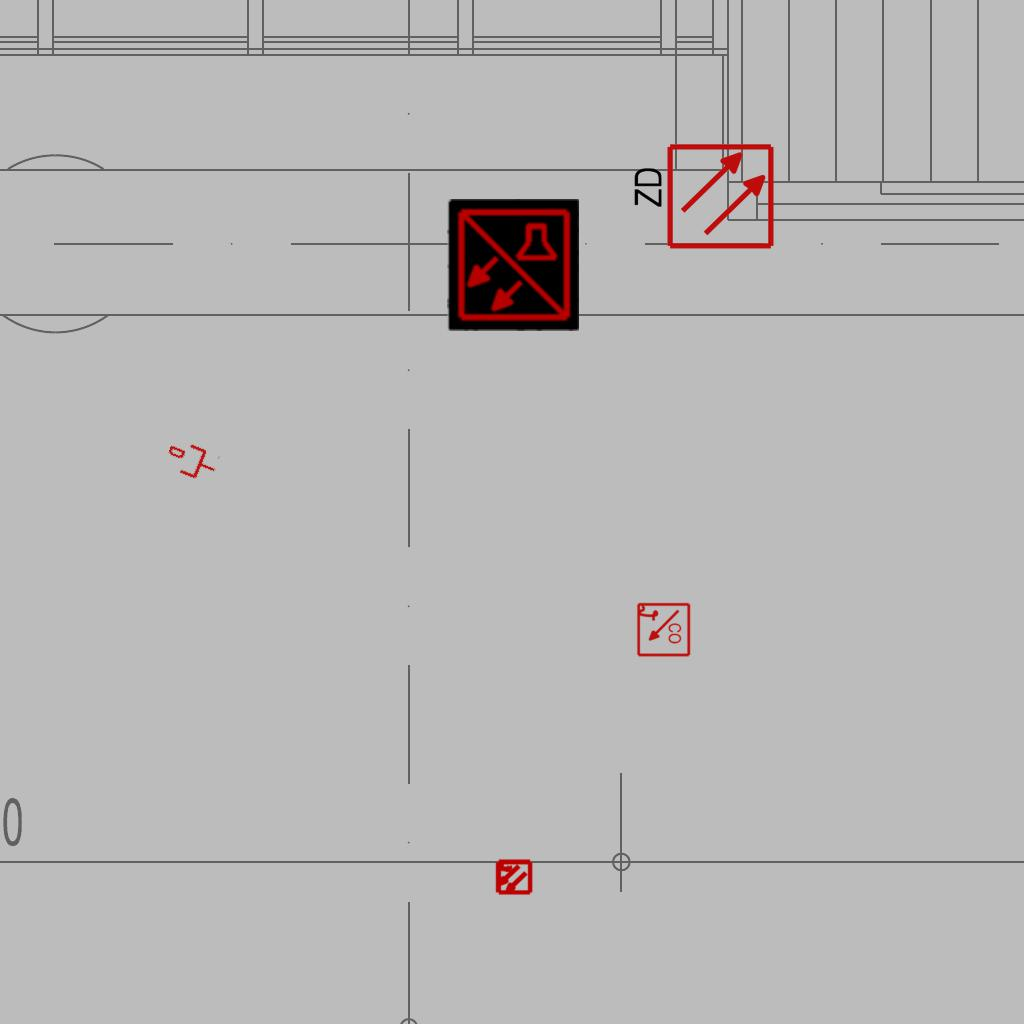Datenanschluss_einfach: (162, 435, 222, 487)
OKW_Multisensormelder_(Kombination_optischer_Rauch-Kahlenmonoxid_Waerme-Melder): (447, 199, 579, 331)
OT_Multisensormelder_(Kombination_RMO_WMD): (485, 849, 541, 905)
ROA_Rauchmelder_optisch_mit_Signalgeber_(Sockelsirene): (635, 602, 691, 658)
ZD_Melder_in_Zwischendecke_mit_Revisionsoeffnung_mind_40_x_40_cm: (627, 141, 776, 255)
